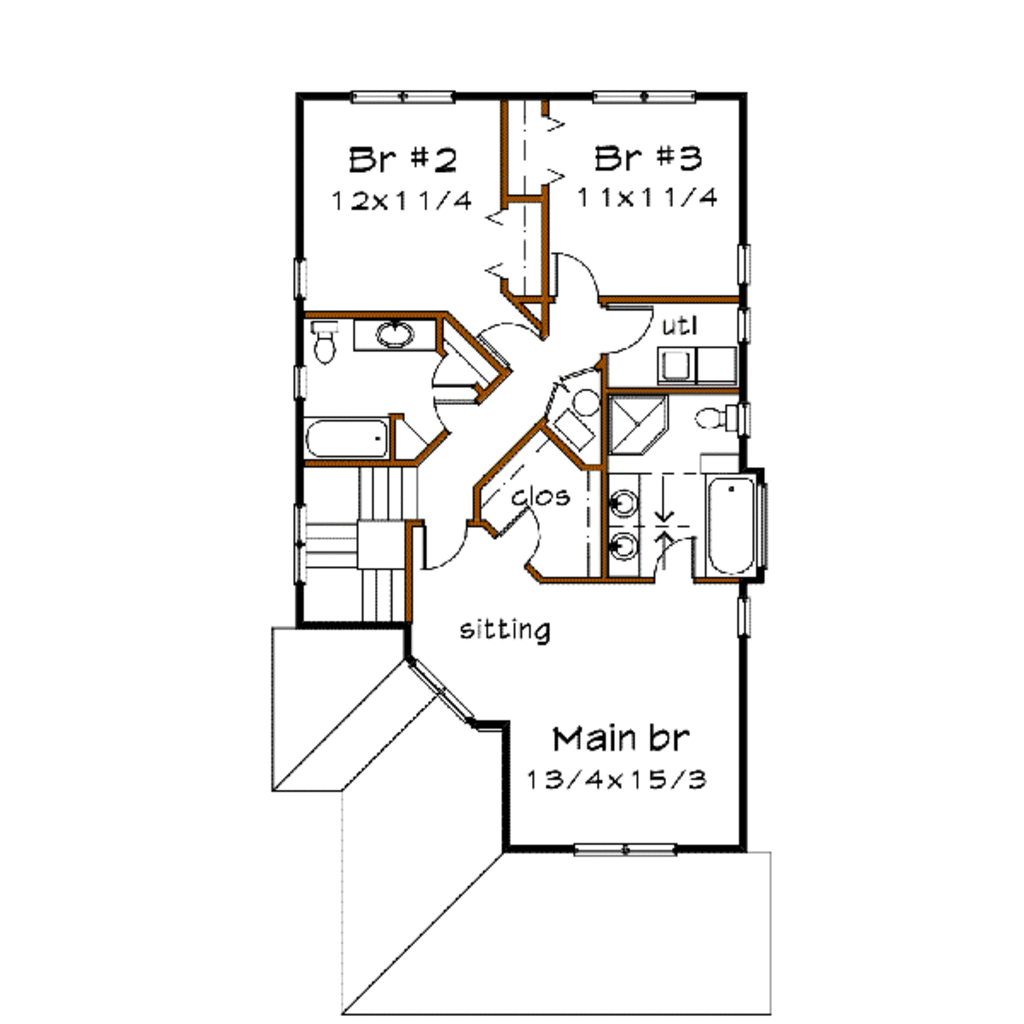door: (488, 501, 545, 570), (471, 316, 542, 368), (545, 246, 602, 301), (602, 301, 653, 355), (417, 522, 469, 570), (429, 352, 483, 397), (658, 535, 704, 584), (431, 395, 480, 435)
large_sink: (693, 389, 753, 443), (301, 312, 344, 376)
small_sink: (605, 468, 648, 576), (347, 309, 437, 355)
stairs: (293, 470, 410, 625)
tub: (696, 474, 759, 579), (294, 412, 399, 460)
window: (344, 84, 455, 109), (591, 85, 707, 108), (731, 585, 761, 649), (571, 838, 677, 855), (290, 254, 313, 308)
